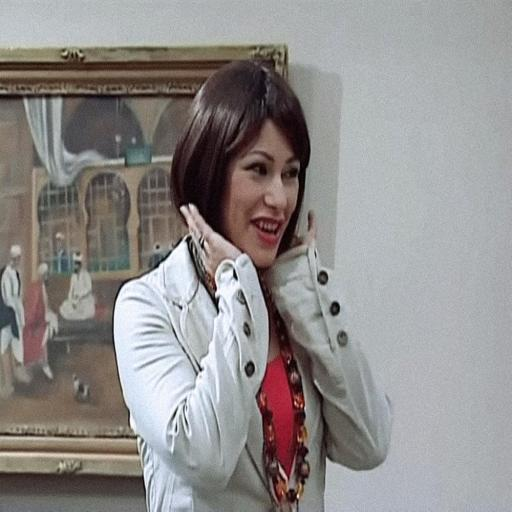zeineb: (222, 119, 300, 270)
